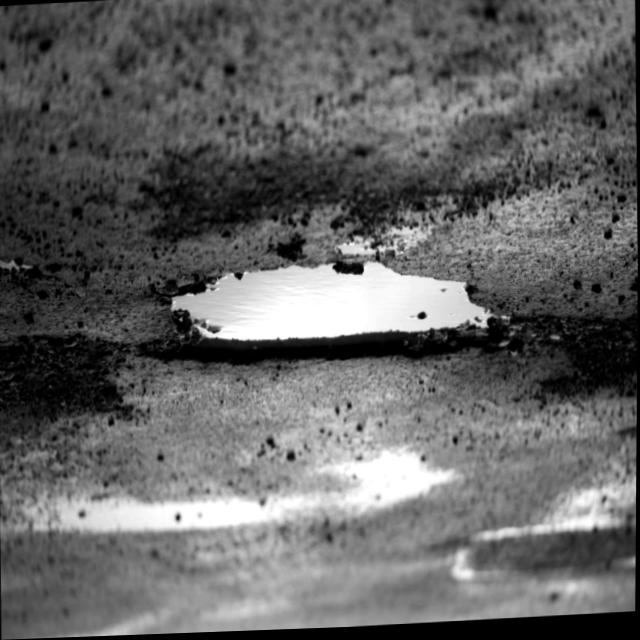pathole: (6, 151, 627, 460)
